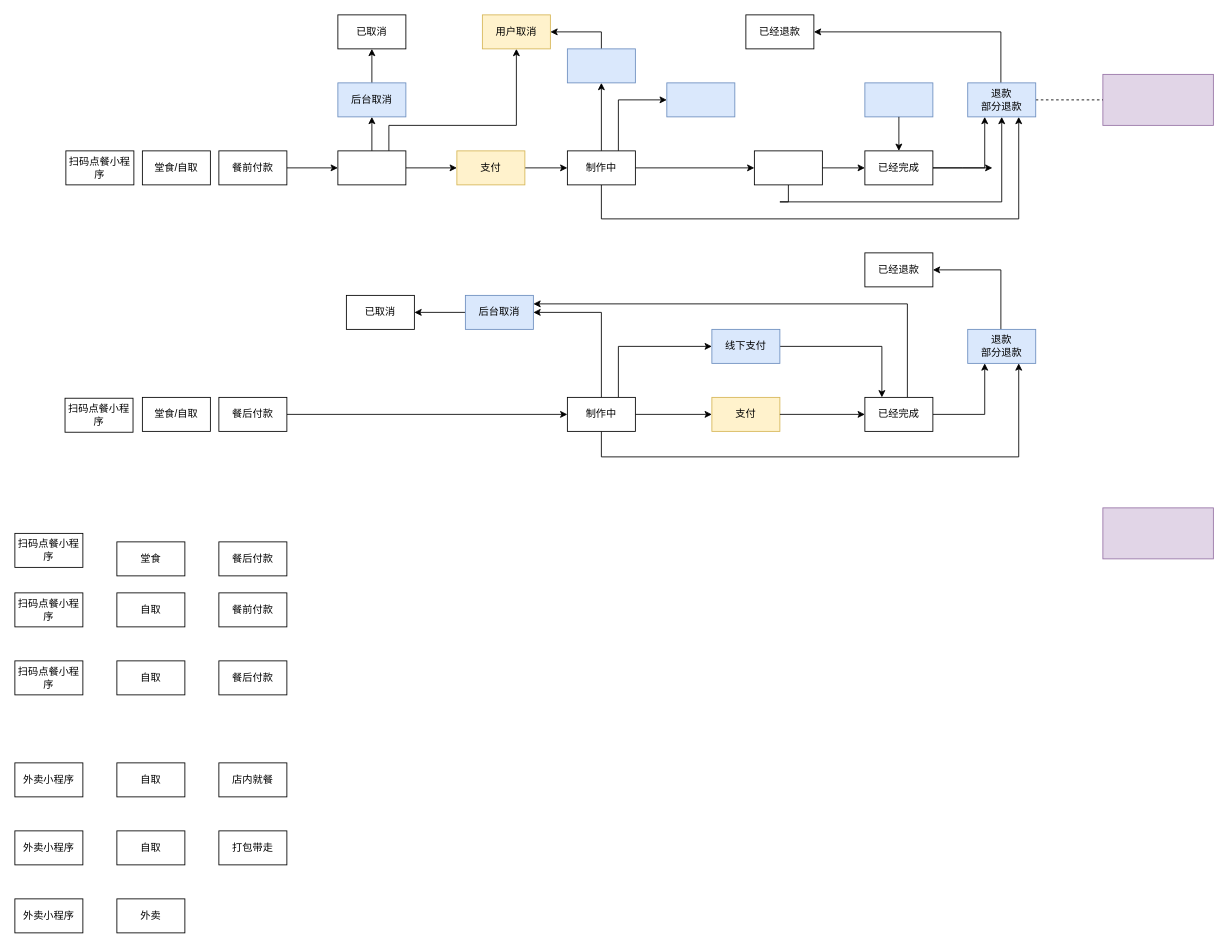
Image size: 1228x948. Some labels were removed from this diagram. Each missing label, with the centre of its shape:
"5分钟 系统自动取消" goes at (x=601, y=65).
"不支持金额部分退款 支持部分商品退款 支持整单退款" goes at (x=1157, y=99).
"待取餐/配送中" goes at (x=788, y=167).
"待支付" goes at (x=371, y=167).
"支持商品部分退款 支持部分商品退款 支持整单退款" goes at (x=1157, y=533).
"确认取餐" goes at (x=898, y=99).
"通知取餐" goes at (x=700, y=99).
